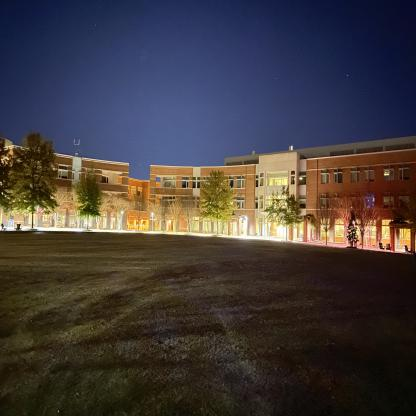eb3: (147, 136, 415, 259)
